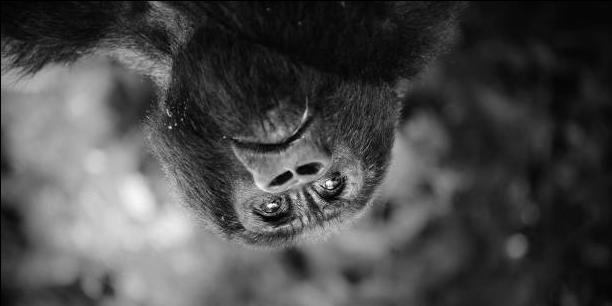gorille_Autres: (28, 0, 437, 283)
